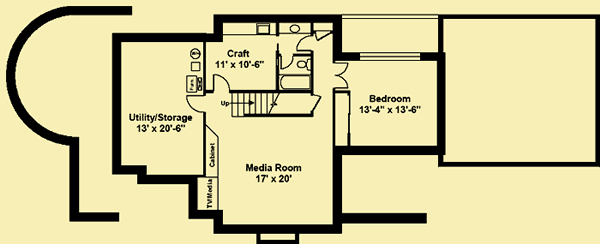door: (333, 61, 351, 90), (186, 94, 206, 115), (208, 73, 229, 91), (295, 34, 312, 52), (279, 52, 295, 70), (309, 93, 322, 114)
large_sink: (293, 58, 311, 73)
small_sink: (278, 23, 314, 36)
stairs: (219, 89, 287, 117)
tub: (278, 72, 310, 90)
window: (358, 50, 423, 62)
